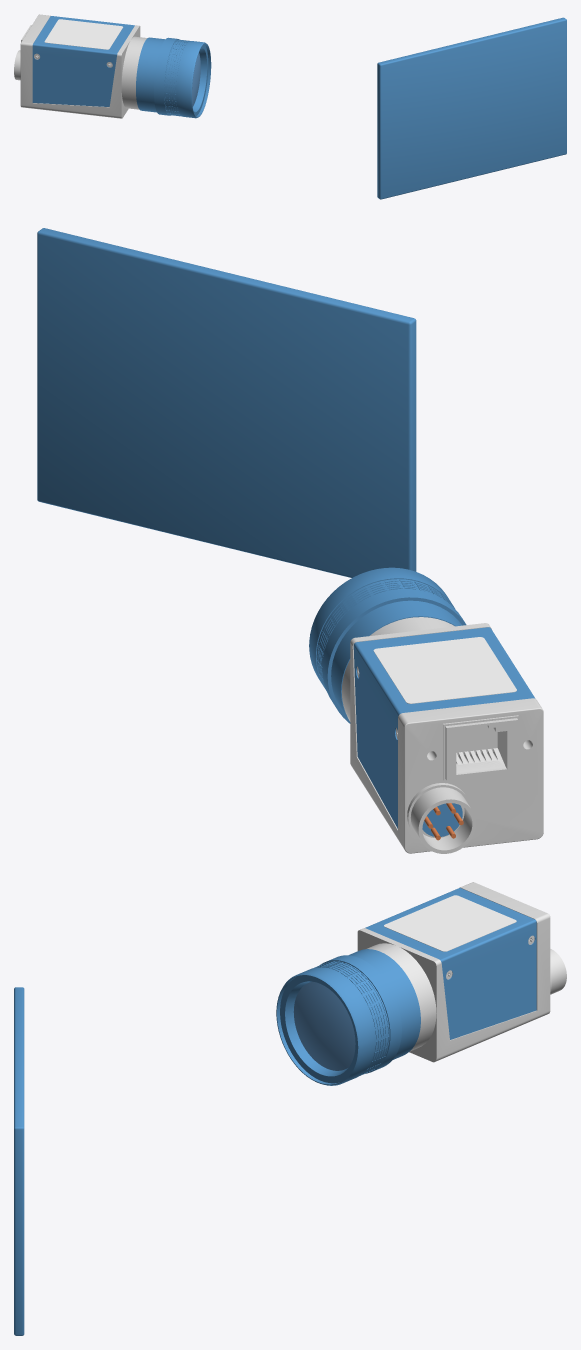
Rendered from screen.glb.
3 views of the same model, one above another, from view 1: azimuth 30°, elevation 25°; view 2: azimuth 150°, elevation 25°; view 3: azimuth 270°, elevation 25° (orthographic). The views are drawn at different scales.
Visible parts, largest first — view 1: Screen, Basler camera; view 2: Screen, Basler camera; view 3: Basler camera, Screen.
Boxes of the visible parts, x1,y1,x2,y2 form: Screen: (377,17,566,199); Basler camera: (14,14,211,118); Screen: (37,228,416,577); Basler camera: (309,567,543,853); Basler camera: (276,882,566,1085); Screen: (14,987,24,1335).
Bounding box in the file's own units: 3.41 × 1.1 × 2.65.
